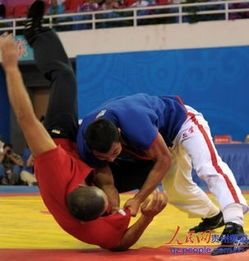falling: (8, 9, 108, 244)
